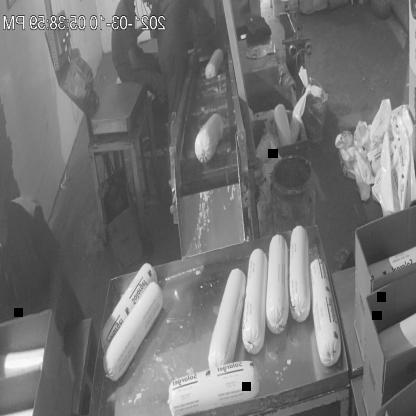no_glove: (34, 230, 67, 342)
